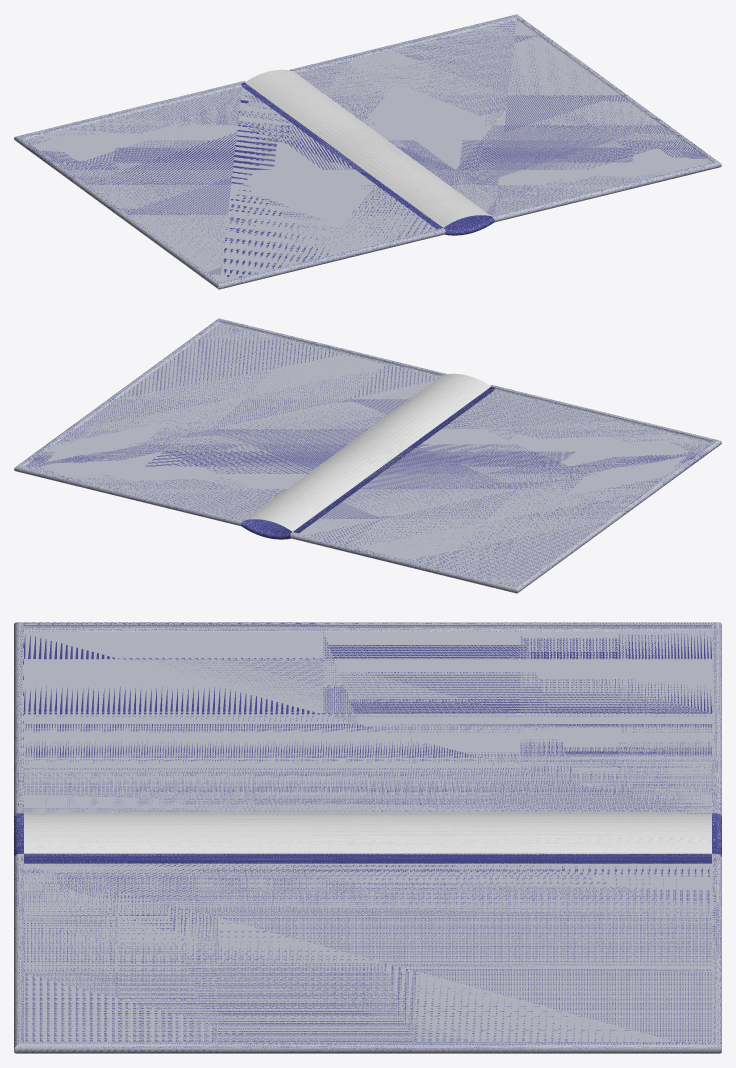
The model's file is cover.dae.
3 renders of one model, top to bottom at view 1: azimuth 30°, elevation 25°; view 2: azimuth 150°, elevation 25°; view 3: azimuth 270°, elevation 25°, orthographic. The views are drawn at different scales.
Visible parts, largest first — view 1: SketchUp_001, SketchUp_004, SketchUp_002, SketchUp; view 2: SketchUp_001, SketchUp_004, SketchUp_002, SketchUp; view 3: SketchUp_004, SketchUp_001, SketchUp_002, SketchUp.
Part boxes in pixels (x1,y1,x2,y2): SketchUp_001: [291, 14, 721, 222]; SketchUp_004: [14, 81, 445, 289]; SketchUp_002: [245, 69, 490, 227]; SketchUp: [241, 69, 494, 235]; SketchUp_001: [14, 318, 444, 526]; SketchUp_004: [290, 385, 721, 593]; SketchUp_002: [245, 373, 490, 531]; SketchUp: [241, 373, 494, 539]; SketchUp_004: [14, 622, 721, 815]; SketchUp_001: [14, 853, 721, 1053]; SketchUp_002: [24, 813, 711, 853]; SketchUp: [14, 813, 721, 863].
Size of the model in its own units: 0.3804 by 0.2674 by 0.0113.
